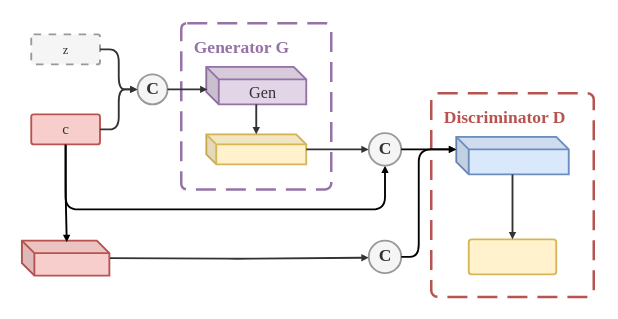
The diagram is 618 pixels wide and 319 high, and some of its shapes have lost their labels. Here are the shapes that lost their labels. From the top down, the centre of each, then its label:
(256,149): Fake x
(512,155): Disc
(65,257): Real x
(512,256): Real/Fake
